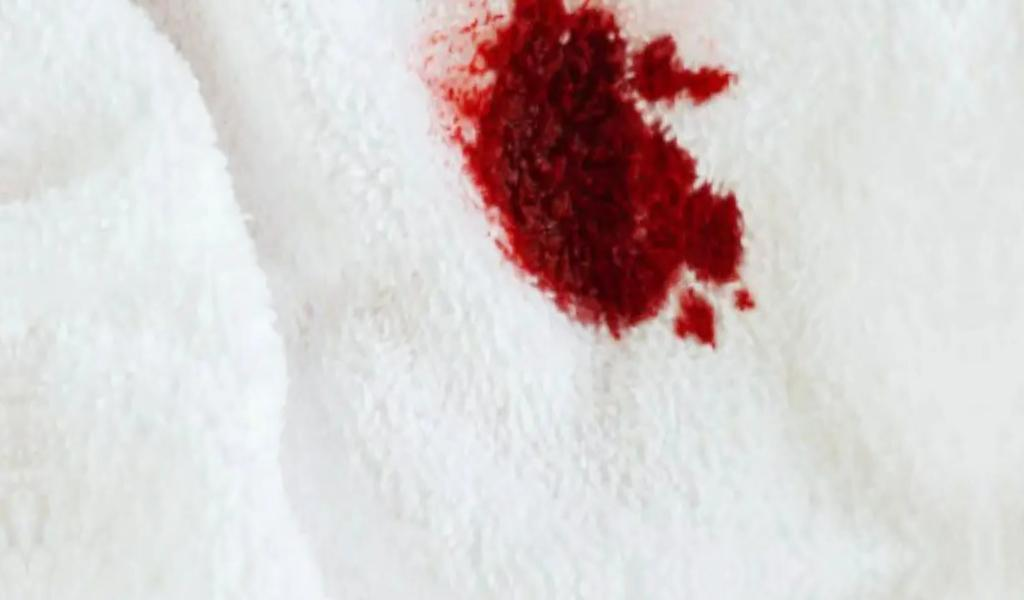stain: (409, 0, 765, 355)
